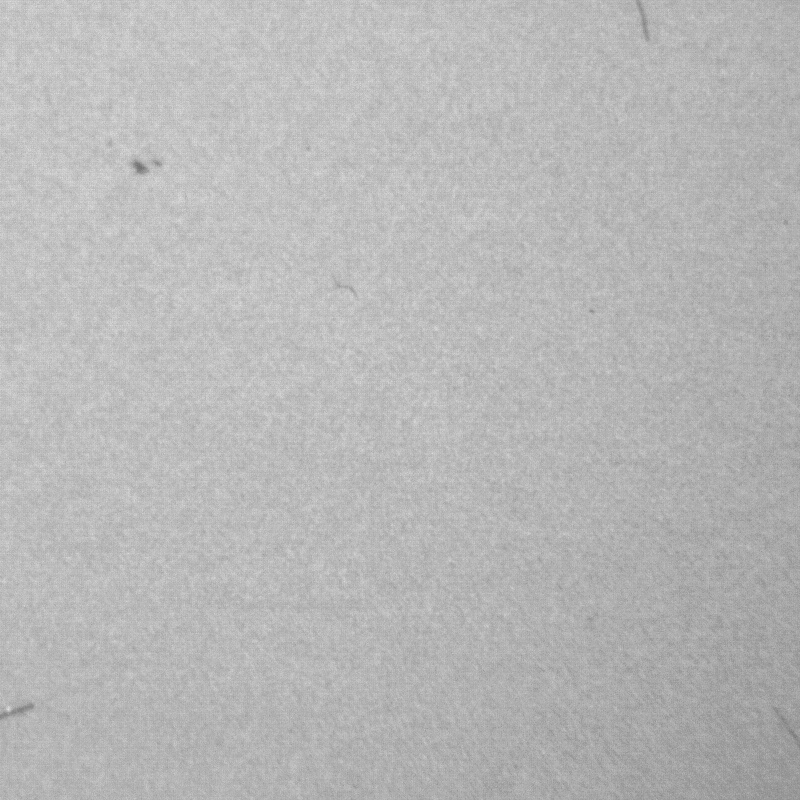defect: (631, 1, 650, 38), (128, 158, 169, 174), (778, 714, 800, 743), (332, 273, 359, 294), (1, 703, 30, 719)
